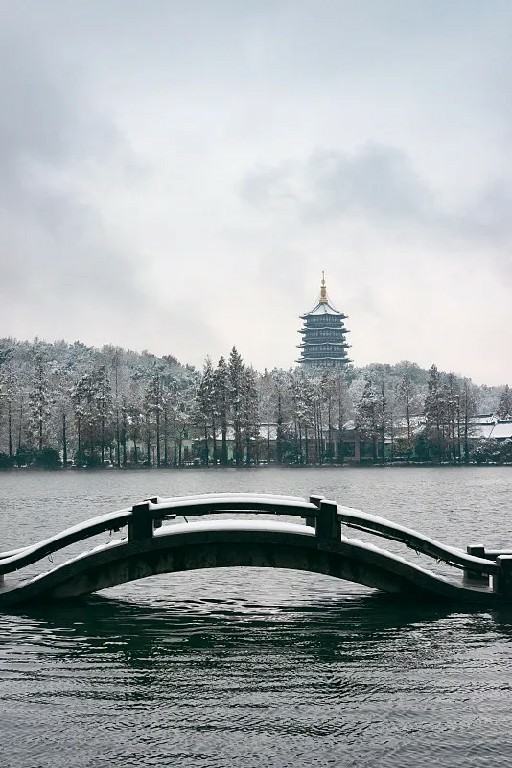Leifeng: (296, 270, 350, 373)
